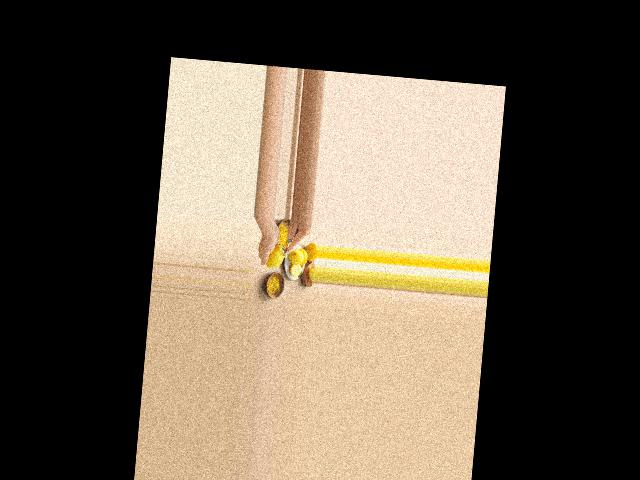lemon: (262, 242, 286, 268)
